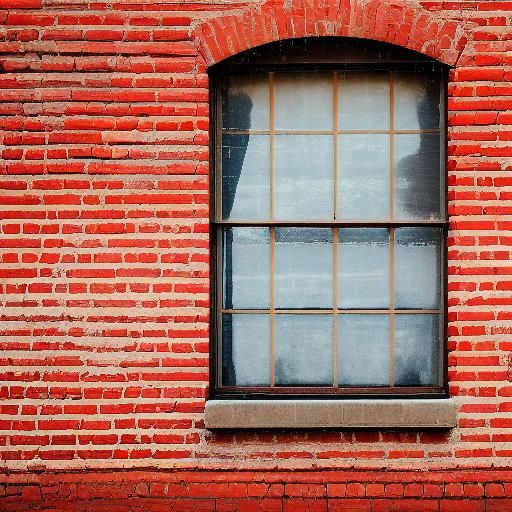Window: (192, 4, 470, 431)
